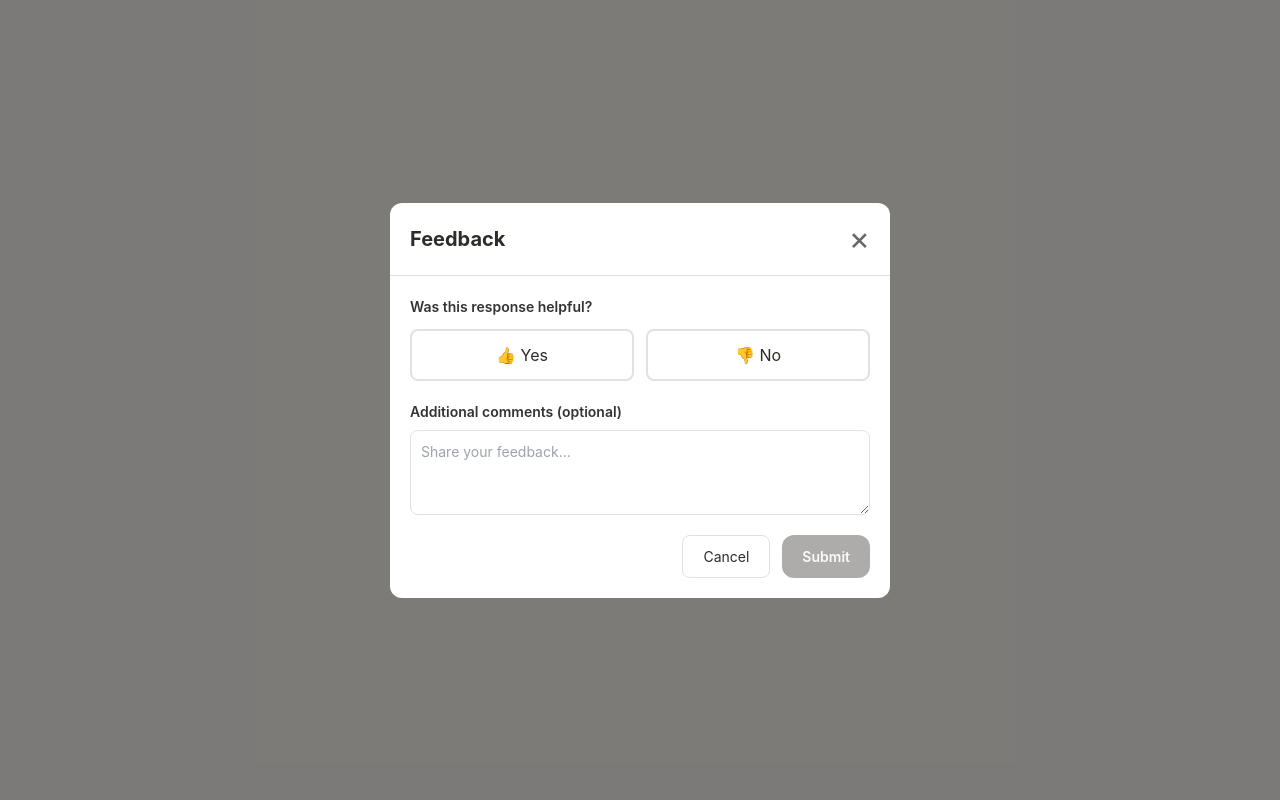
Scenario: FeedbackModal › rating selection › selects positive rating when Yes clicked
This screenshot has width=1280, height=800.
Click the button "👍 Yes": {"x": 522, "y": 354} [410, 328, 634, 380]
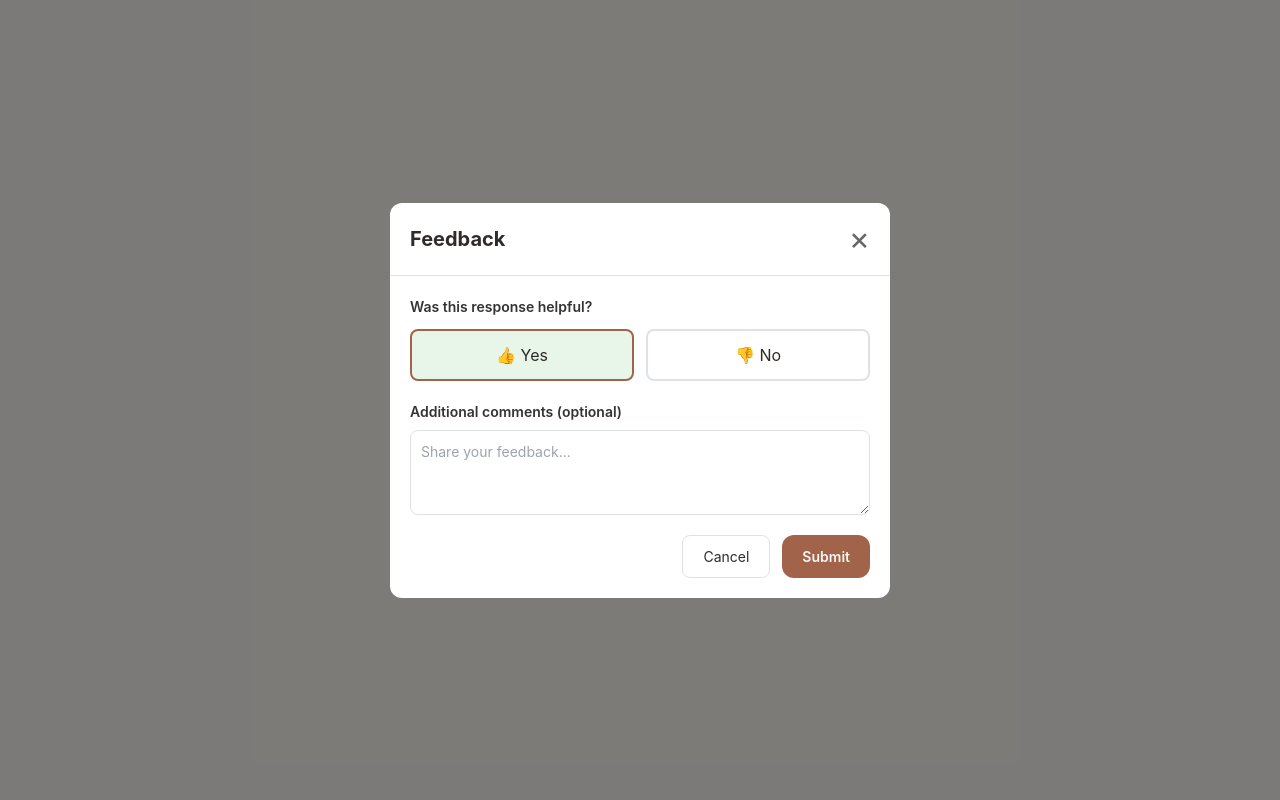
Check: the button "Submit" is enabled, box [782, 534, 870, 578]
